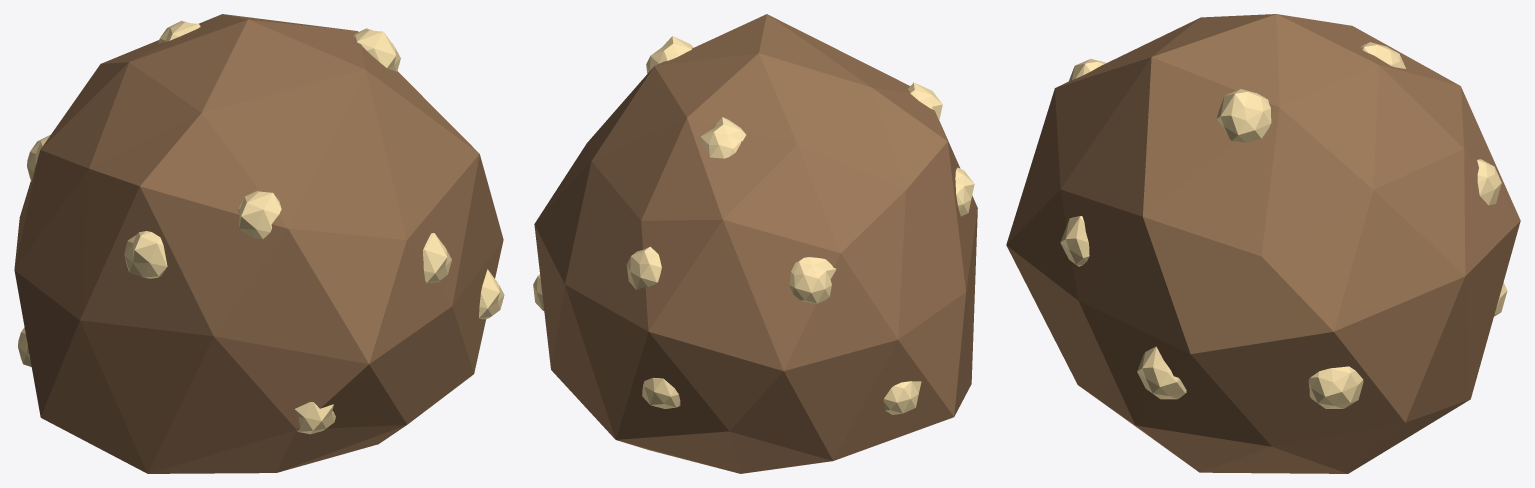
The model's file is whiteCookieDoughBall.fbx.
3 renders of one model, left to right at view 1: azimuth 30°, elevation 25°; view 2: azimuth 150°, elevation 25°; view 3: azimuth 270°, elevation 25°, orthographic. The views are drawn at different scales.
Visible parts, largest first — view 1: Icosphere.011; view 2: Icosphere.011; view 3: Icosphere.011.
Boxes of the visible parts, x1=… form: Icosphere.011: x1=14, y1=14, x2=504, y2=473; Icosphere.011: x1=533, y1=14, x2=977, y2=473; Icosphere.011: x1=1006, y1=14, x2=1520, y2=473.
Size of the model in its own units: 185 by 179 by 197.
